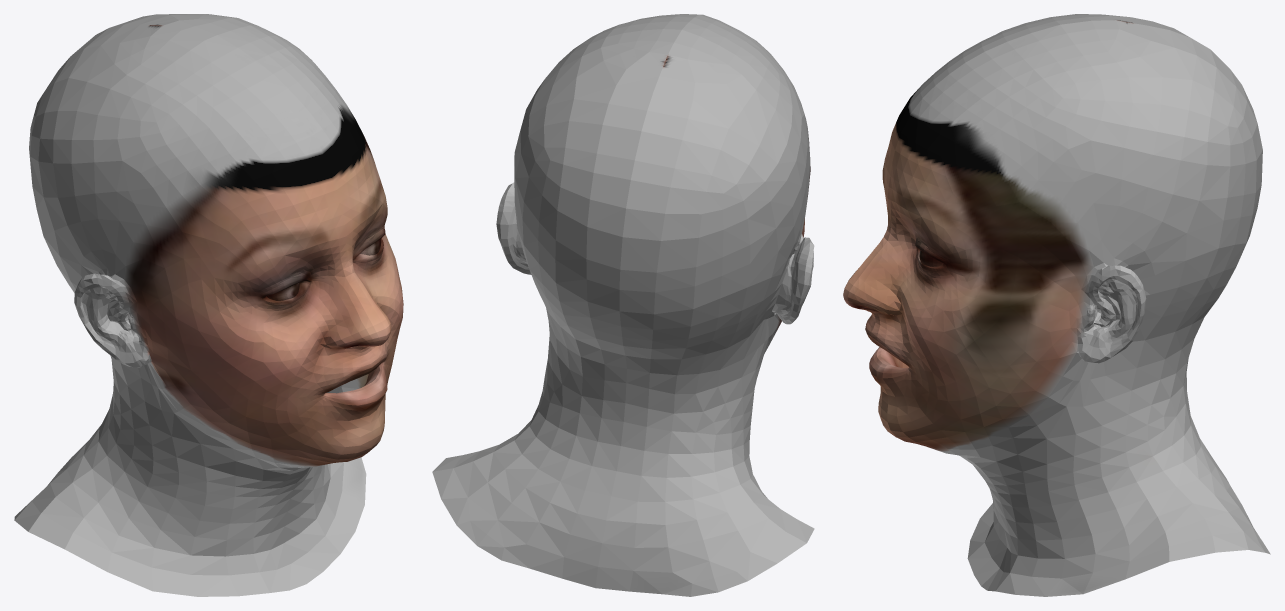
Rendered from id08392-DGGTJx470Ag-005451_inputs_inputs.obj.
3 views of the same model, side by side, from view 1: azimuth 30°, elevation 25°; view 2: azimuth 150°, elevation 25°; view 3: azimuth 270°, elevation 25° (orthographic). The views are drawn at different scales.
Size of the model in its own units: 0.2092 by 0.3123 by 0.228.
Materials: 1 (1 with a texture image).
